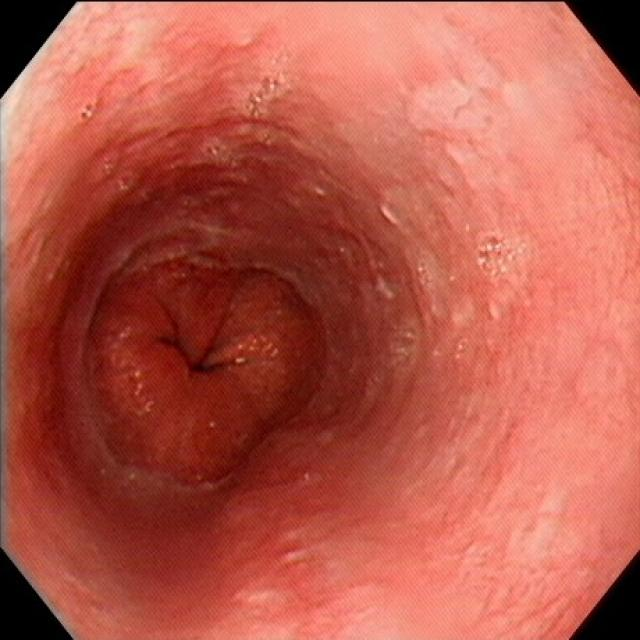I: (82, 246, 329, 497)
J: (405, 66, 522, 185), (57, 25, 171, 95), (370, 202, 409, 301)
T: (471, 232, 527, 277), (243, 72, 289, 117)
